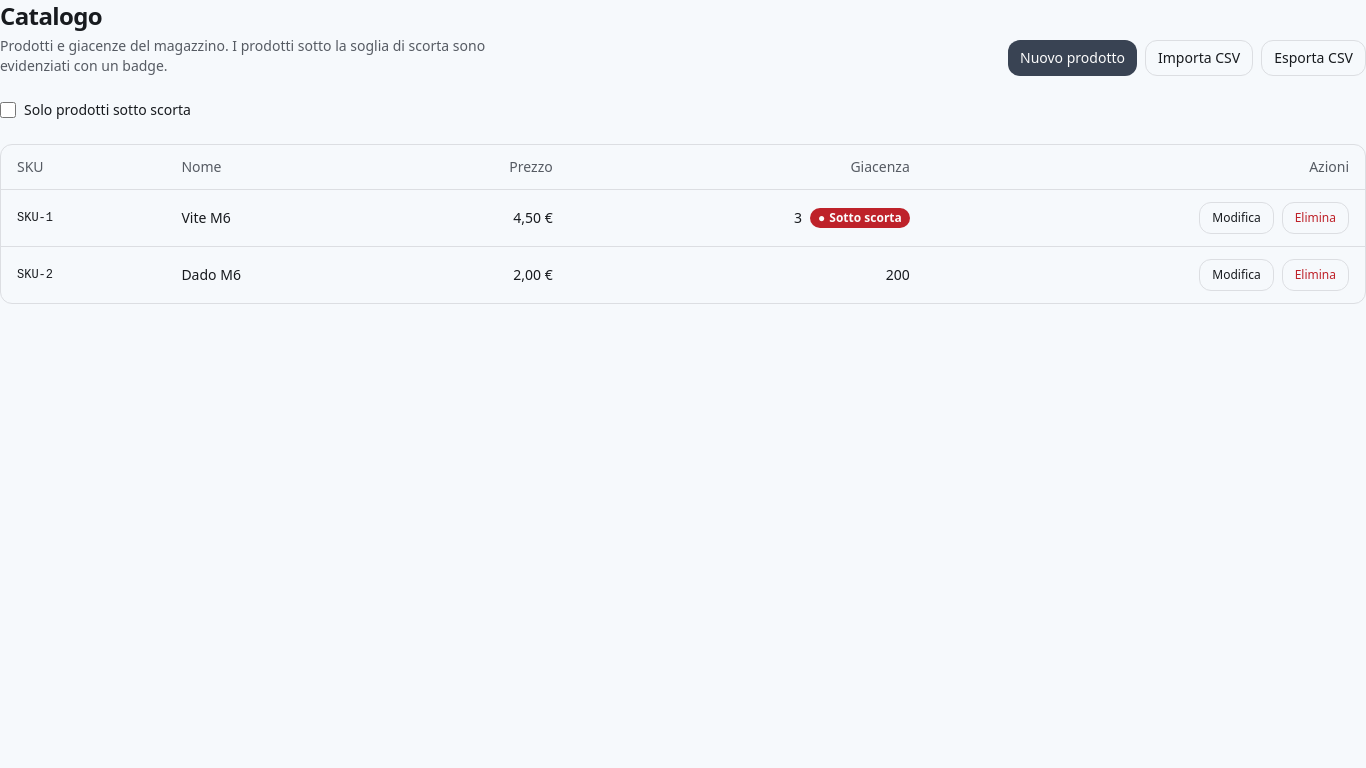
it: ProductsView › mostra l'errore del backend nel form e non chiude il dialog
This screenshot has width=1366, height=768.
Expected: the text "Vite M6" is shown, 181,208 -> 231,227
Click the button "Nuovo prodotto" at coordinates (1072, 58), box 1008,40 -> 1137,76
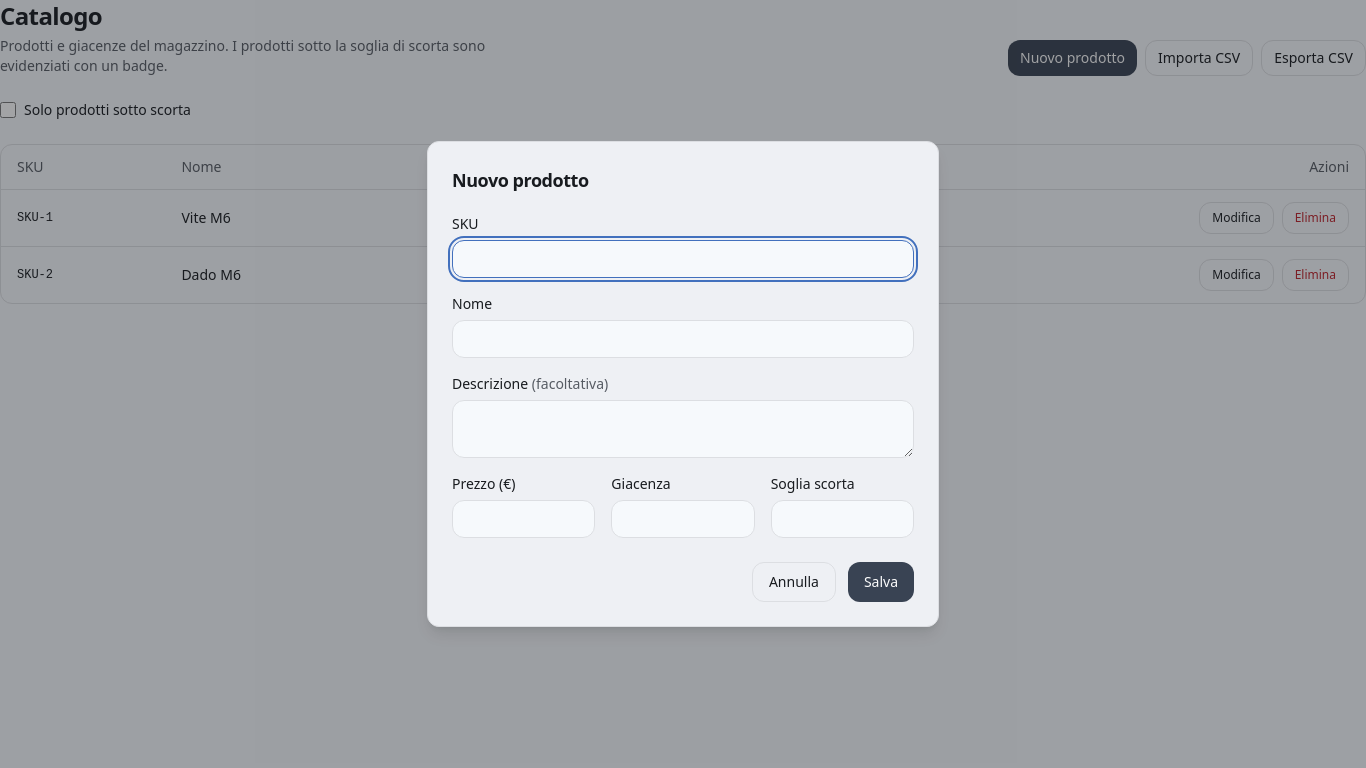
Type "SKU-1" into the field labelled "SKU" at coordinates (683, 259), box 452,240 -> 914,278
Type "Vite" into the field labelled "Nome" at coordinates (683, 339), box 452,320 -> 914,358
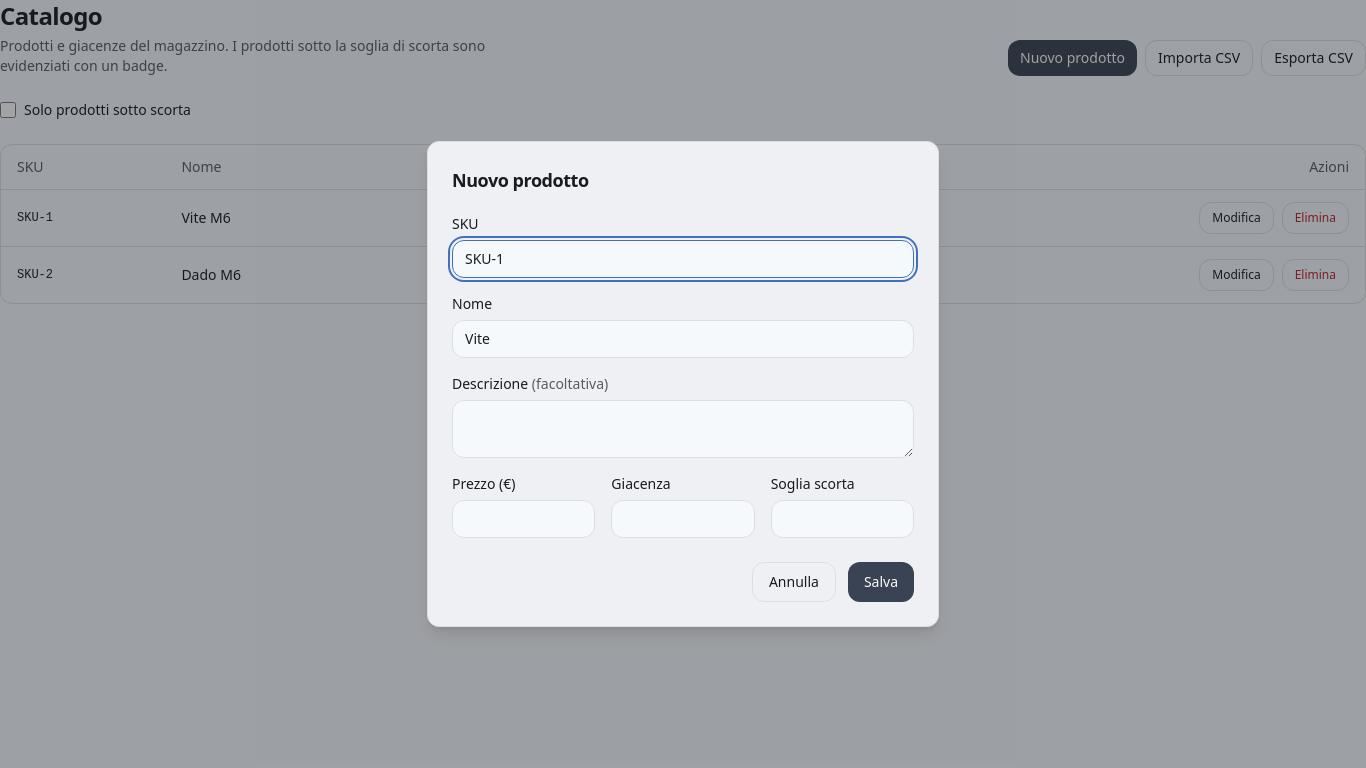
Type "1" into the field labelled "Prezzo (€)" at coordinates (524, 519), box 452,500 -> 595,538
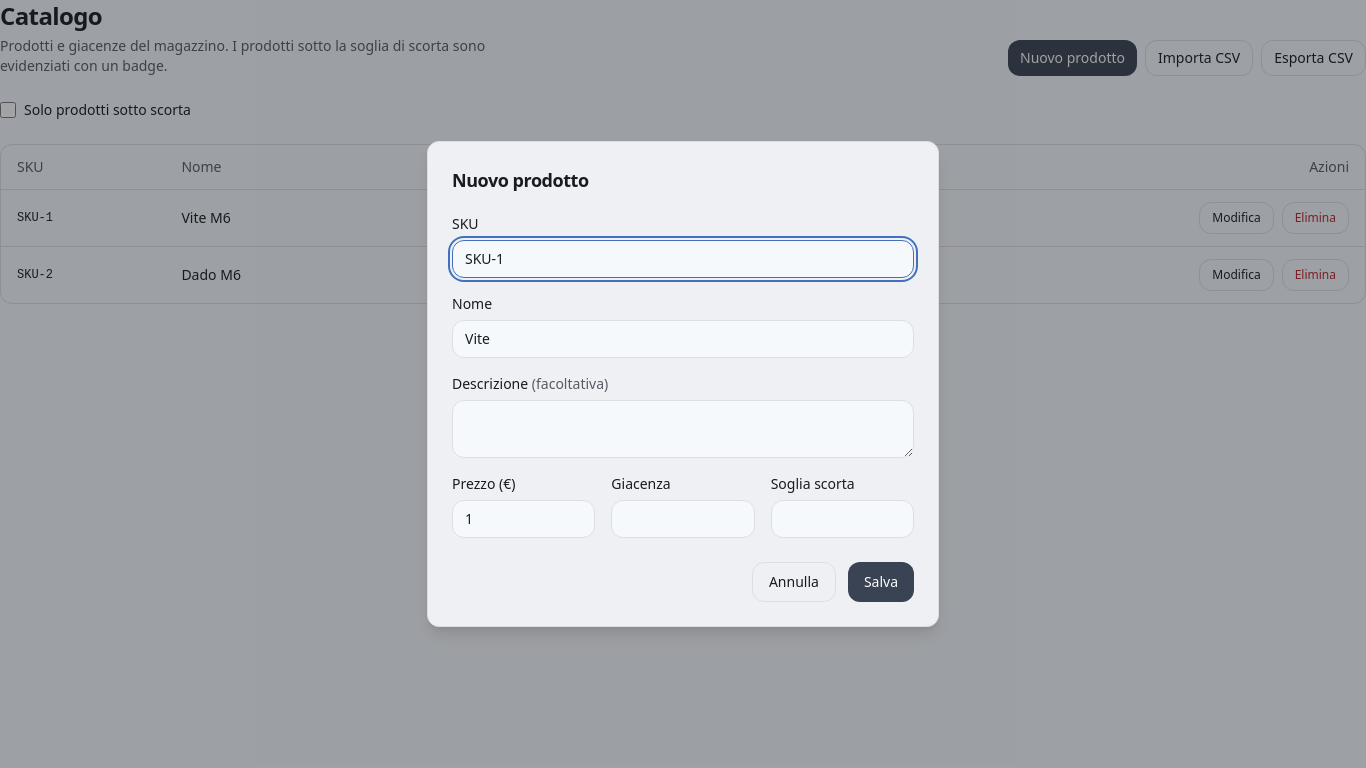
Type "1" into the number field labelled "Giacenza" at coordinates (683, 519), box 611,500 -> 755,538
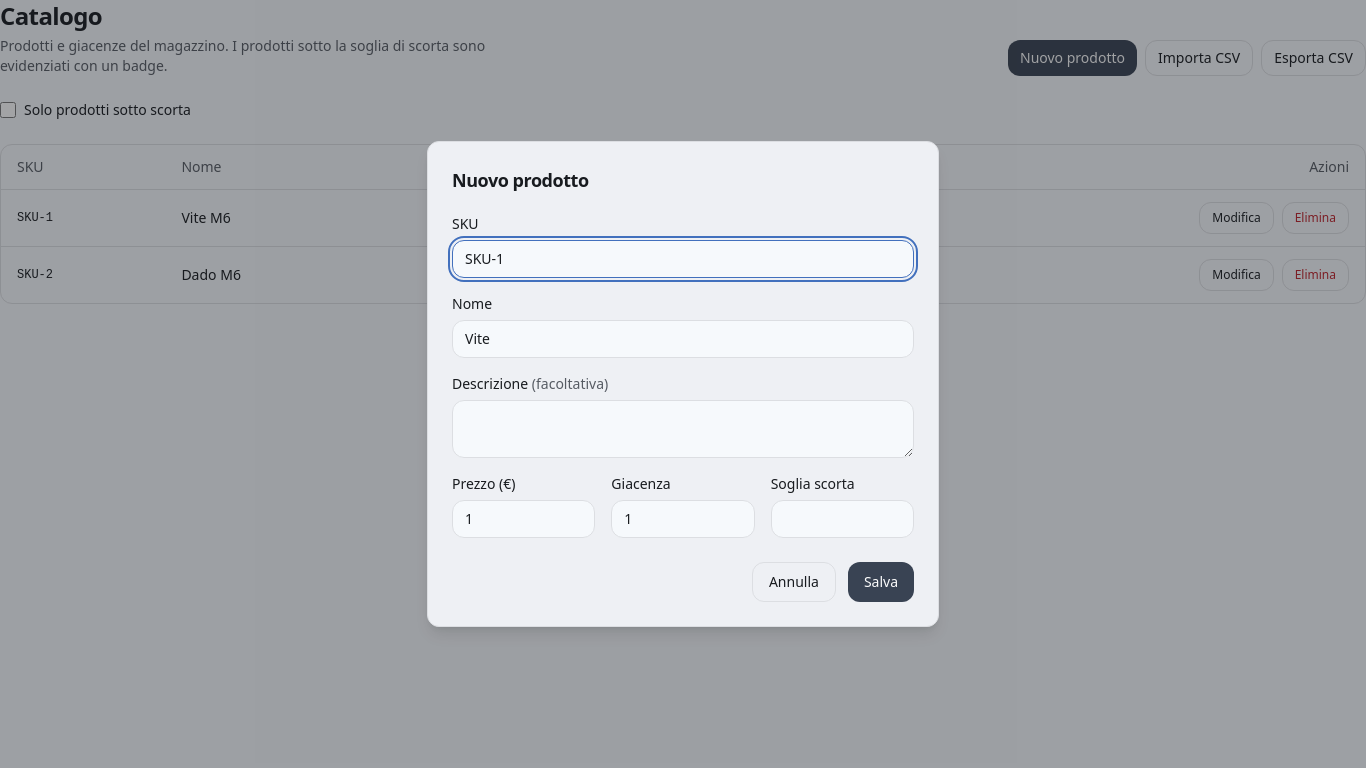
Type "1" into the number field labelled "Soglia scorta" at coordinates (842, 519), box 771,500 -> 914,538
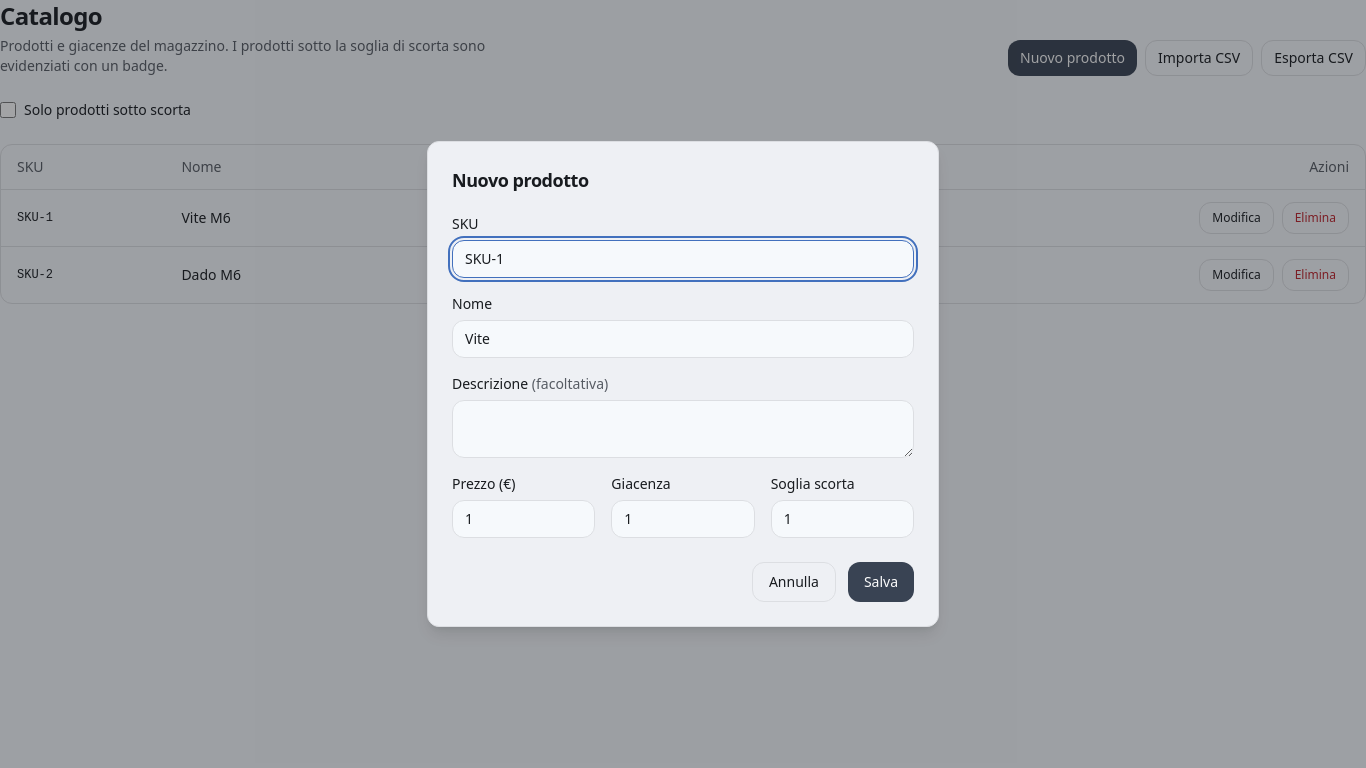
Click the button "Salva" at coordinates (881, 582), box 848,562 -> 914,602
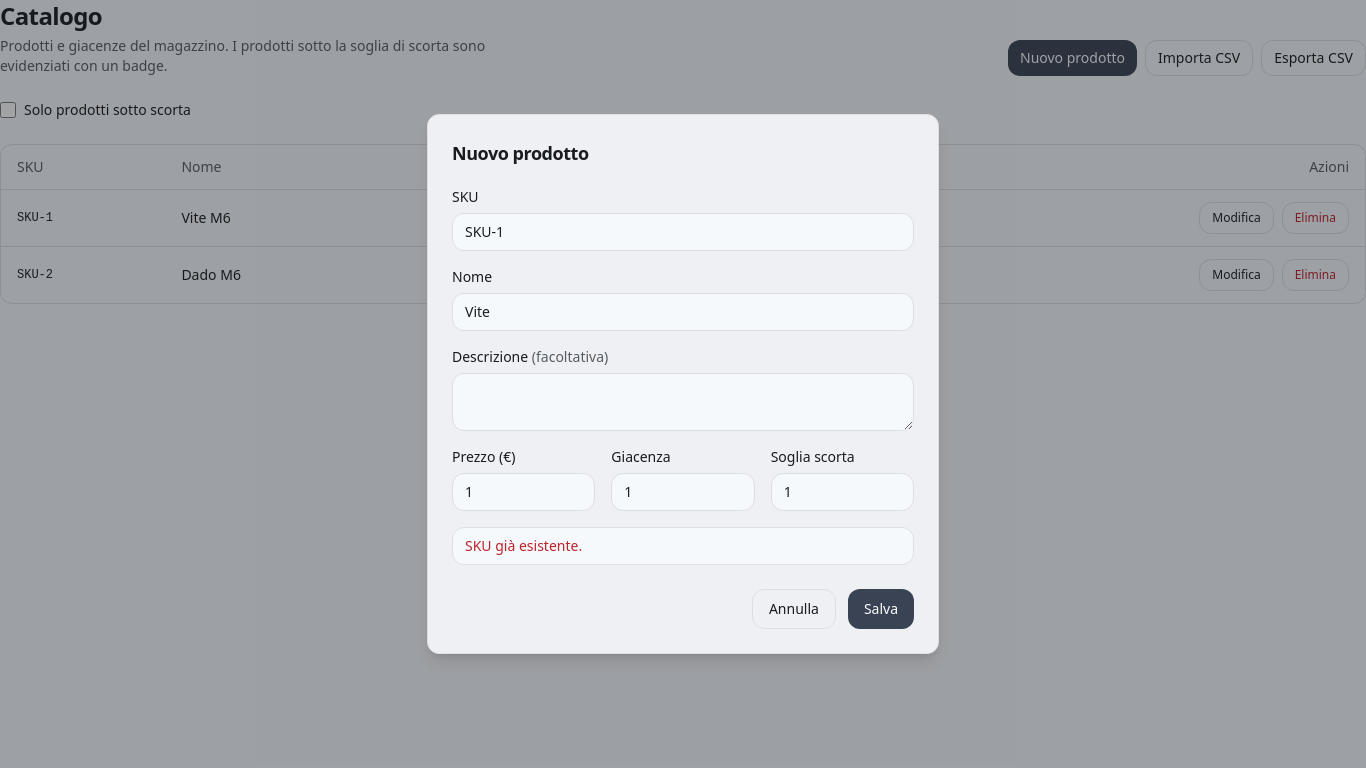
Expected: the dialog is shown, 427,114 -> 939,654
Expected: the message reads "SKU già esistente.", 465,536 -> 582,555
